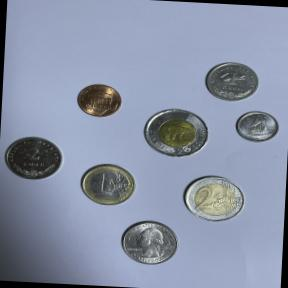coin: (138, 104, 215, 160), (180, 172, 250, 225), (0, 132, 68, 184), (117, 217, 182, 268), (76, 160, 140, 208), (72, 80, 128, 119), (232, 108, 284, 145)
